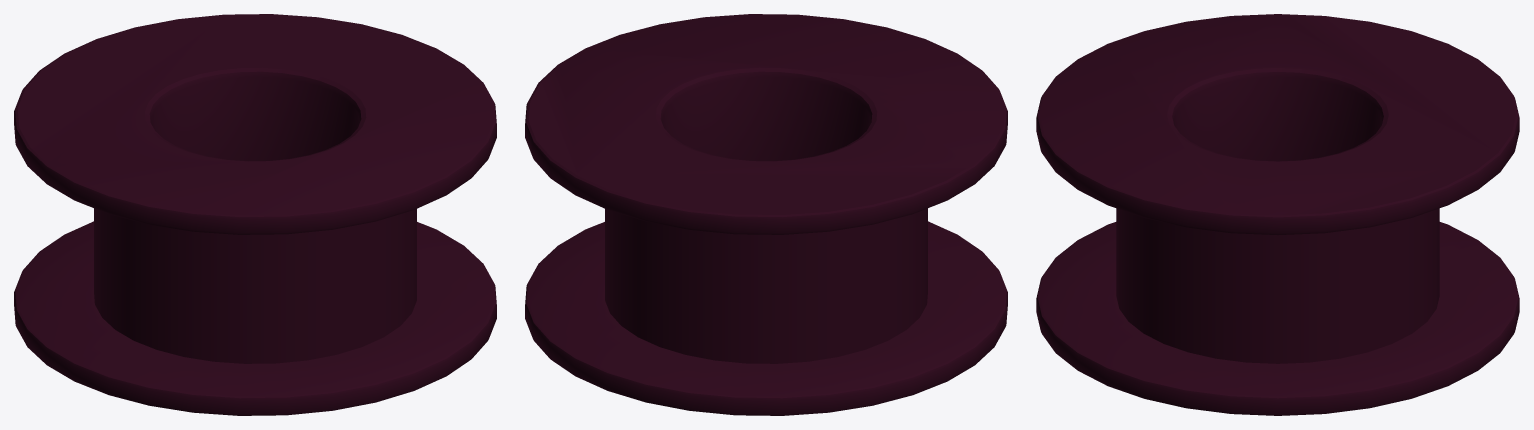
File: spool.obj
The picture shows the model from 3 angles, left to right: view 1: azimuth 30°, elevation 25°; view 2: azimuth 150°, elevation 25°; view 3: azimuth 270°, elevation 25°; orthographic projection.
Parts seen in each view (by area): view 1: spool; view 2: spool; view 3: spool.
Boxes of the visible parts, bbox=[...] form: spool: bbox=[14, 14, 496, 415]; spool: bbox=[525, 14, 1007, 415]; spool: bbox=[1036, 14, 1519, 415].
Size of the model in its own units: 0.3527 by 0.1615 by 0.3527.
